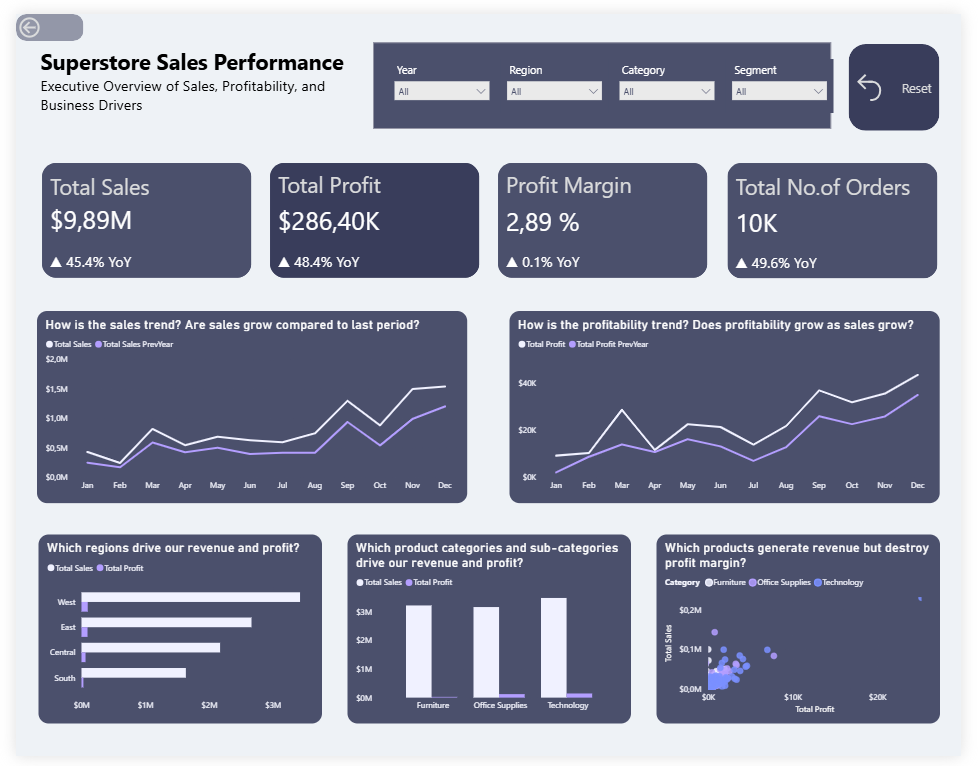

The dashboard page shown, as its layout file describes it:
{"tool":"powerbi","page":{"name":"SalesPerformance_Dashboard","canvas":[1400,1100],"ordinal":1},"visuals":[{"type":"shape","box":[529.2,42.2,678.7,128],"z":0,"group":"g1"},{"type":"lineChart","title":"How is the sales trend? Are sales grow compared to last period?","fields":{"Category":["Dim_OrderDate.Month Name Short"],"Y":["_Measures.Total Sales","_Measures.Total Sales PrevYear"]},"box":[32,441,637,284.5],"z":0},{"type":"lineChart","title":"How is the profitability trend? Does profitability grow as sales grow?","fields":{"Category":["Dim_OrderDate.Month Name Short"],"Y":["_Measures.Total Profit","_Measures.Total Profit PrevYear"]},"box":[731,441,637.6,284.5],"z":1000},{"type":"clusteredBarChart","title":"Which regions drive our revenue and profit?","fields":{"Category":["Dim_Customer.Region"],"Y":["_Measures.Total Sales","_Measures.Total Profit"]},"box":[32.5,771,420,280],"z":2000},{"type":"clusteredColumnChart","title":"Which product categories and sub-categories drive our revenue and profit?","fields":{"Category":["Dim_Product.Category","Dim_Product.Sub-Category"],"Y":["_Measures.Total Sales","_Measures.Total Profit"]},"box":[490.2,771,420,280],"z":3000},{"type":"scatterChart","title":"Which products generate revenue but destroy profit margin?","fields":{"Y":["_Measures.Total Sales"],"X":["_Measures.Total Profit"],"Category":["Dim_Product.Product Name"],"Series":["Dim_Product.Category"]},"box":[948,771,420,280],"z":4000},{"type":"cardVisual","title":"Card_TotalSales","fields":{"Data":["_Measures.Total Sales"]},"box":[32.5,215,320.7,180],"z":5000},{"type":"cardVisual","title":"Card_TotalOrders","fields":{"Data":["_Measures.Total No.of  Orders"]},"box":[1048.2,215,321.2,181.1],"z":6000},{"type":"cardVisual","title":"Card_ProfMargin","fields":{"Data":["_Measures.Profit Margin"]},"box":[709.9,215,320,180],"z":7000},{"type":"cardVisual","title":"Card_TotalProfit","fields":{"Data":["_Measures.Total Profit"]},"box":[371.5,215,320,180],"z":8000},{"type":"textbox","box":[32.1,41.2,480.1,127.8],"z":9000},{"type":"actionButton","box":[1233.4,44.3,134.9,128.6],"z":10000},{"type":"group","id":"g1","title":"Group 1","box":[529.2,42.2,678.9,128.6],"z":11000},{"type":"slicer","title":"Slicer_Region","fields":{"Values":["Dim_Customer.Region"]},"box":[717.9,67.2,160,80],"z":11000,"group":"g1"},{"type":"actionButton","box":[0,0,100,40],"z":12000},{"type":"slicer","title":"Slicer_Year","fields":{"Values":["Dim_OrderDate.Year"]},"box":[551.7,67.2,160,80],"z":12000,"group":"g1"},{"type":"slicer","title":"Slicer_Category","fields":{"Values":["Dim_Product.Category"]},"box":[884.2,67.2,160,80],"z":13000,"group":"g1"},{"type":"slicer","title":"Slicer_Segment","fields":{"Values":["Dim_Customer.Segment"]},"box":[1050.4,67.2,160,80],"z":14000,"group":"g1"}]}

Visuals, with their boxes in screenshot pixels (x1, y1, x2, y2), scaled from the page's 1400x1100 canvas onto the 978x766 screenshot:
shape: locate(370, 29, 844, 119)
"How is the sales trend? Are sales grow compared to last period?" lineChart: locate(22, 307, 467, 505)
"How is the profitability trend? Does profitability grow as sales grow?" lineChart: locate(511, 307, 956, 505)
"Which regions drive our revenue and profit?" clusteredBarChart: locate(23, 537, 316, 732)
"Which product categories and sub-categories drive our revenue and profit?" clusteredColumnChart: locate(342, 537, 636, 732)
"Which products generate revenue but destroy profit margin?" scatterChart: locate(662, 537, 956, 732)
"Card_TotalSales" cardVisual: locate(23, 150, 247, 275)
"Card_TotalOrders" cardVisual: locate(732, 150, 957, 276)
"Card_ProfMargin" cardVisual: locate(496, 150, 719, 275)
"Card_TotalProfit" cardVisual: locate(260, 150, 483, 275)
textbox: locate(22, 29, 358, 118)
actionButton: locate(862, 31, 956, 120)
"Group 1" group: locate(370, 29, 844, 119)
"Slicer_Region" slicer: locate(502, 47, 613, 103)
actionButton: locate(0, 0, 70, 28)
"Slicer_Year" slicer: locate(385, 47, 497, 103)
"Slicer_Category" slicer: locate(618, 47, 729, 103)
"Slicer_Segment" slicer: locate(734, 47, 846, 103)
